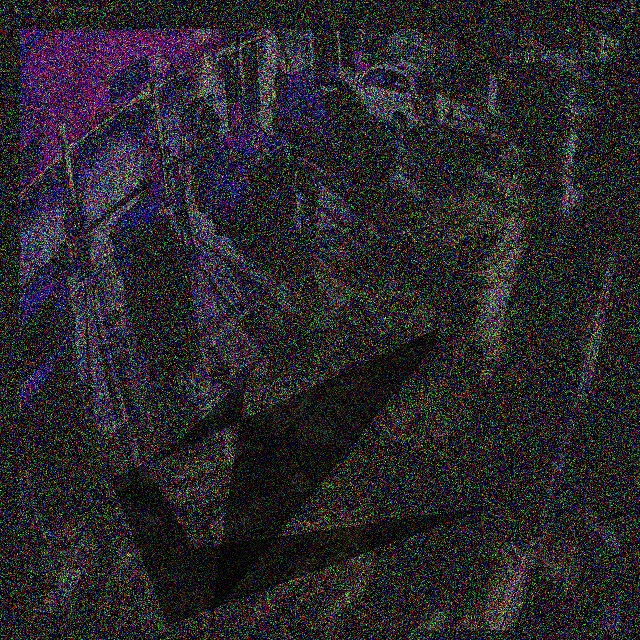Car: (272, 72, 396, 200), (192, 123, 298, 247), (112, 190, 188, 338)
